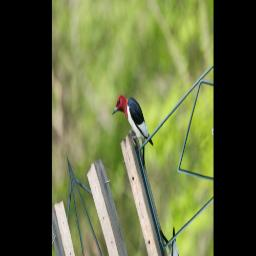Woodpecker: (110, 76, 154, 174)
